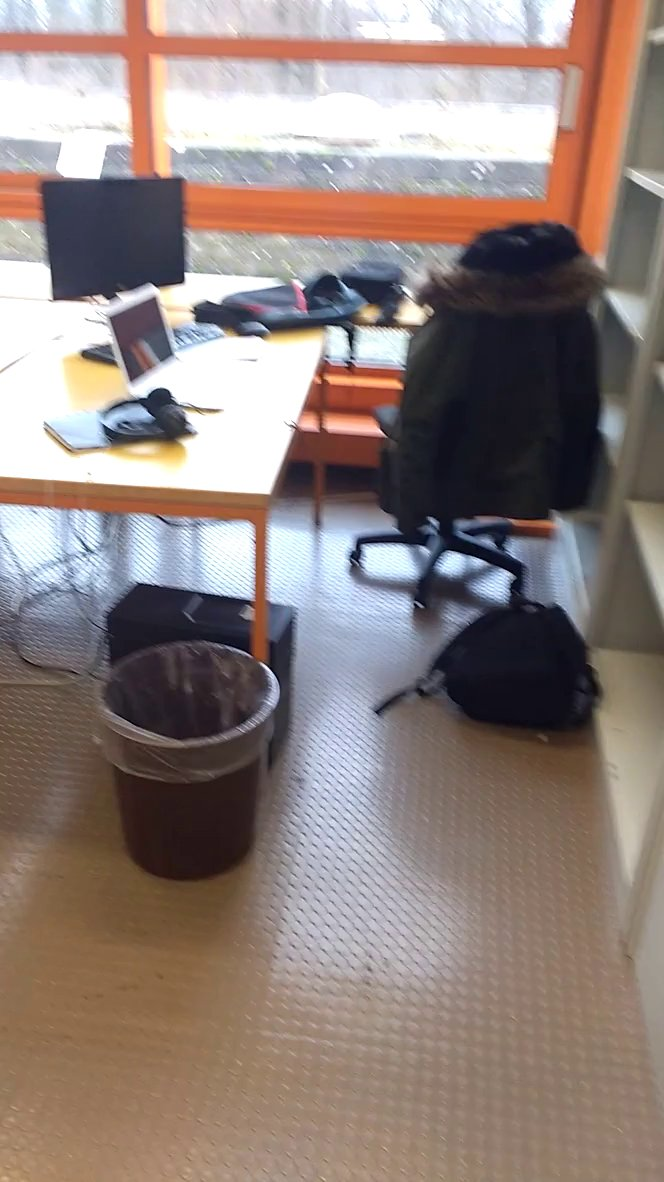bag: (369, 595, 610, 745)
bin: (84, 614, 297, 884)
laptop: (97, 273, 263, 416)
